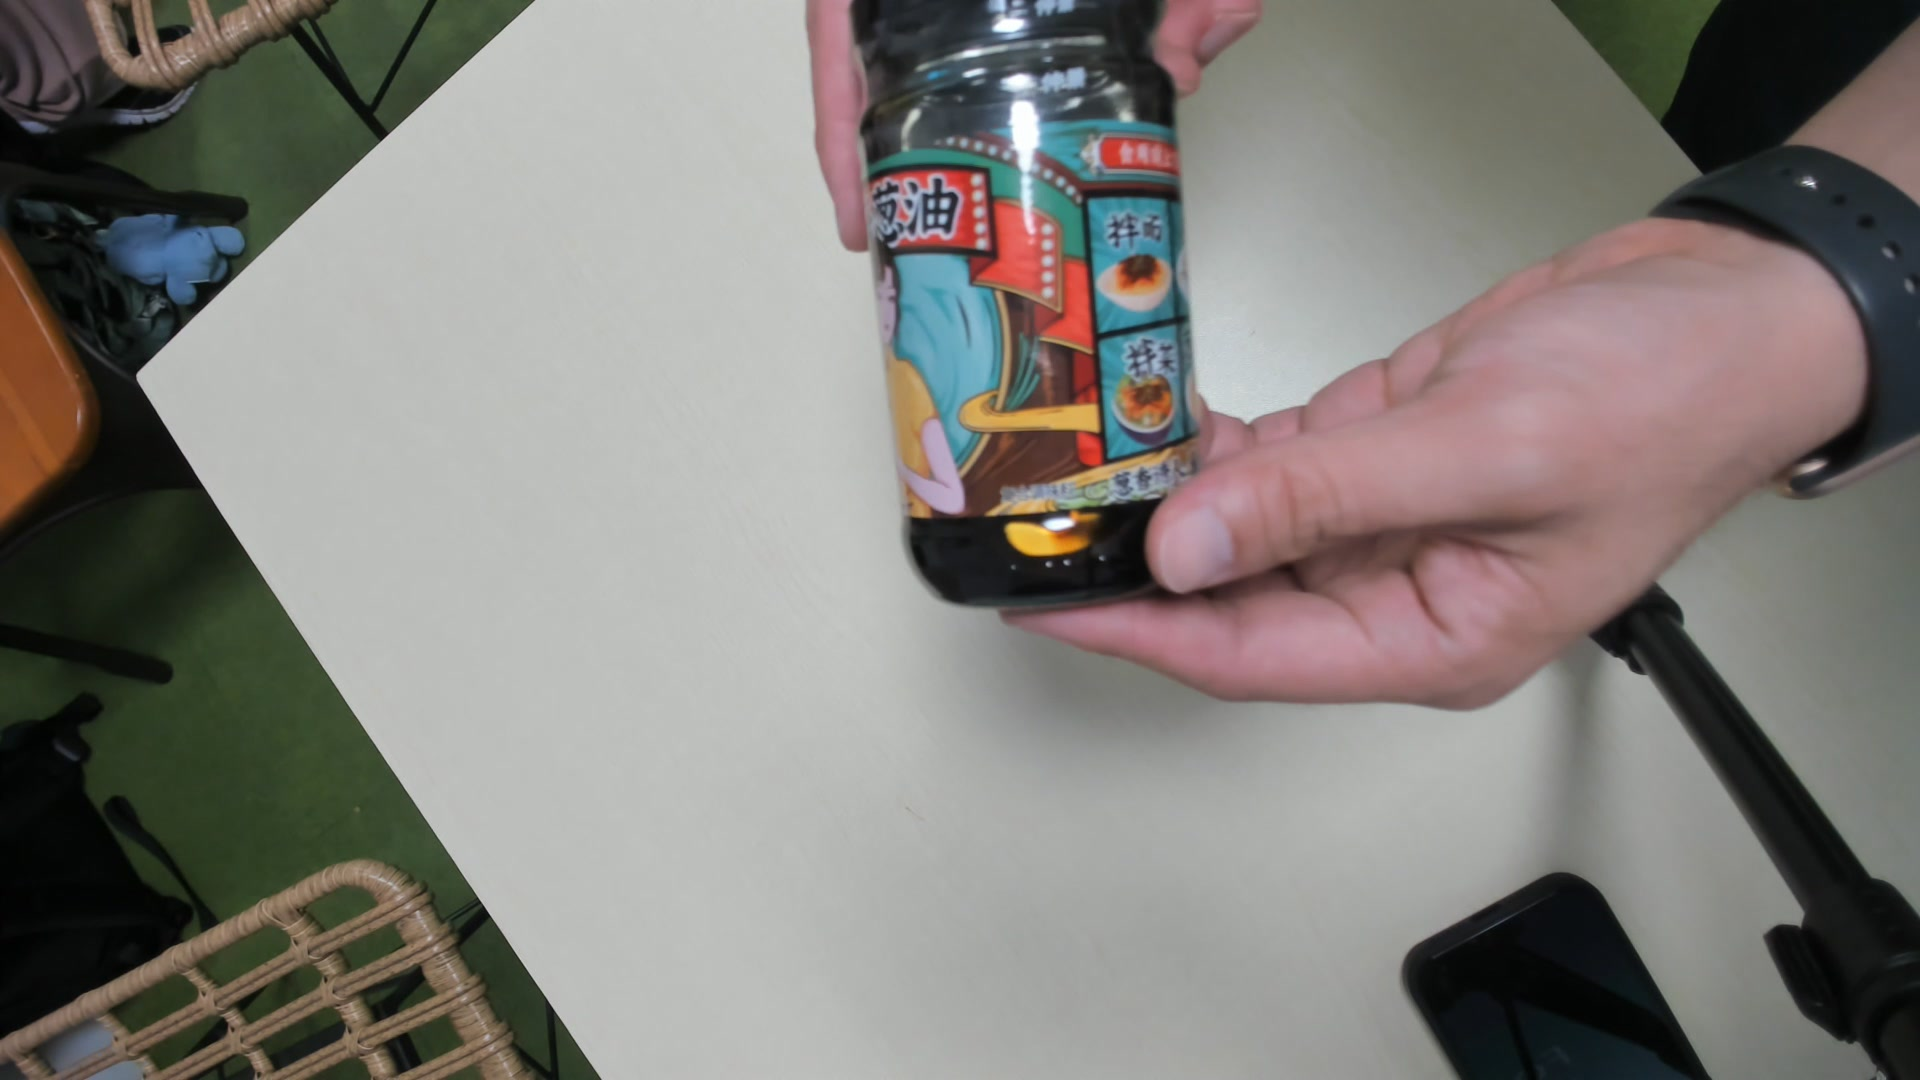OtherSauceDressing_200-299g_NonHalal_NonHealthy: (844, 3, 1203, 618)
